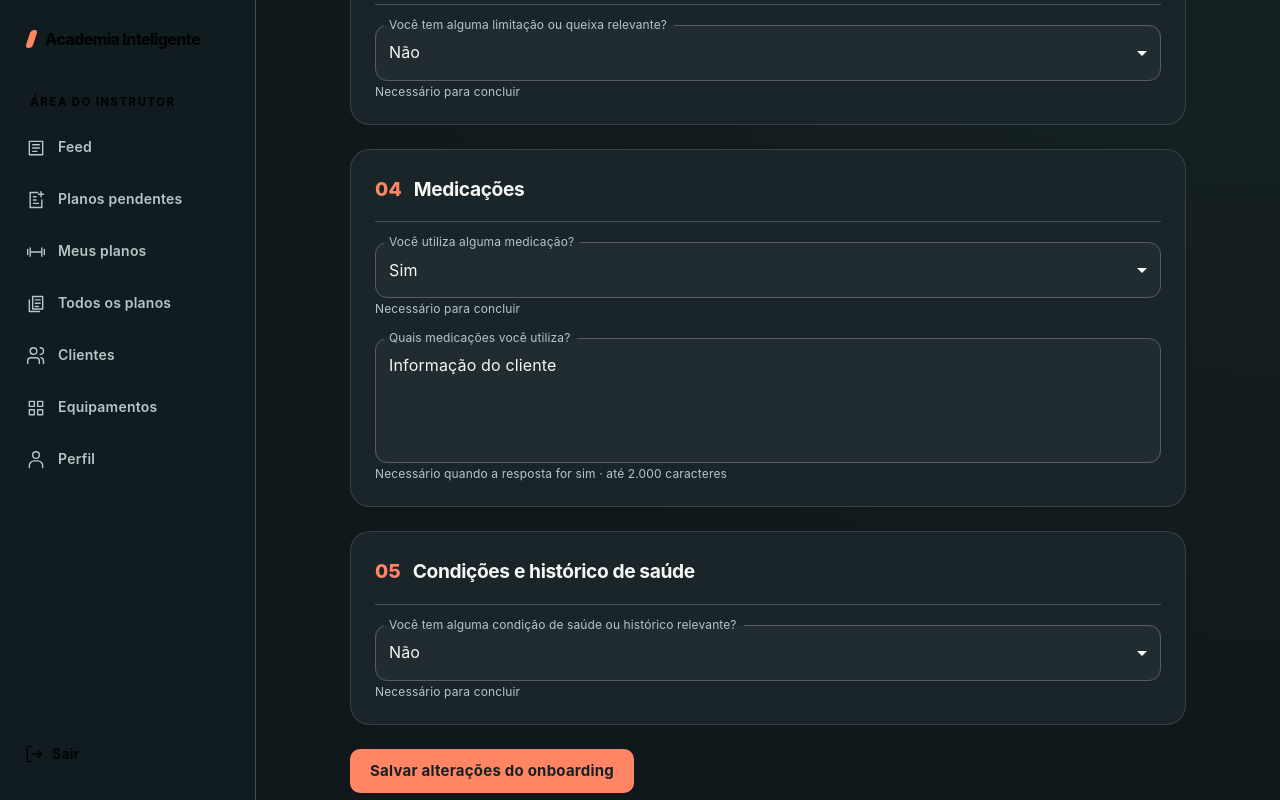
Test case: completed instructor form stays editable and saves all fields on the target route
The width and height of the screenshot is (1280, 800).
(page scrolled)
Step 1. Replace the text in the text box labelled "Quais medicações você utiliza?" with "Nova informação" → (768, 400), box left=389, top=354, right=1147, bottom=446
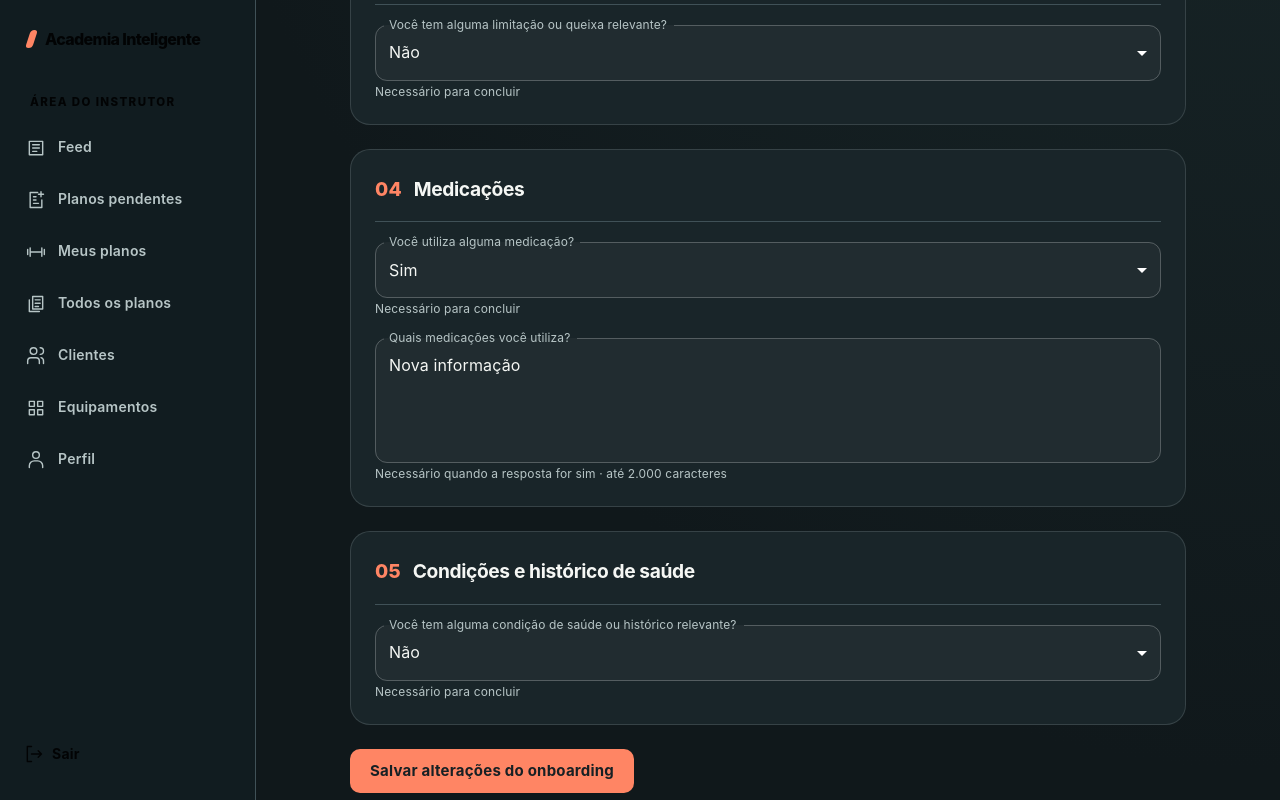
Step 2. Click the button "Salvar alterações do onboarding" → (492, 771), box left=350, top=749, right=634, bottom=793
(page scrolled)
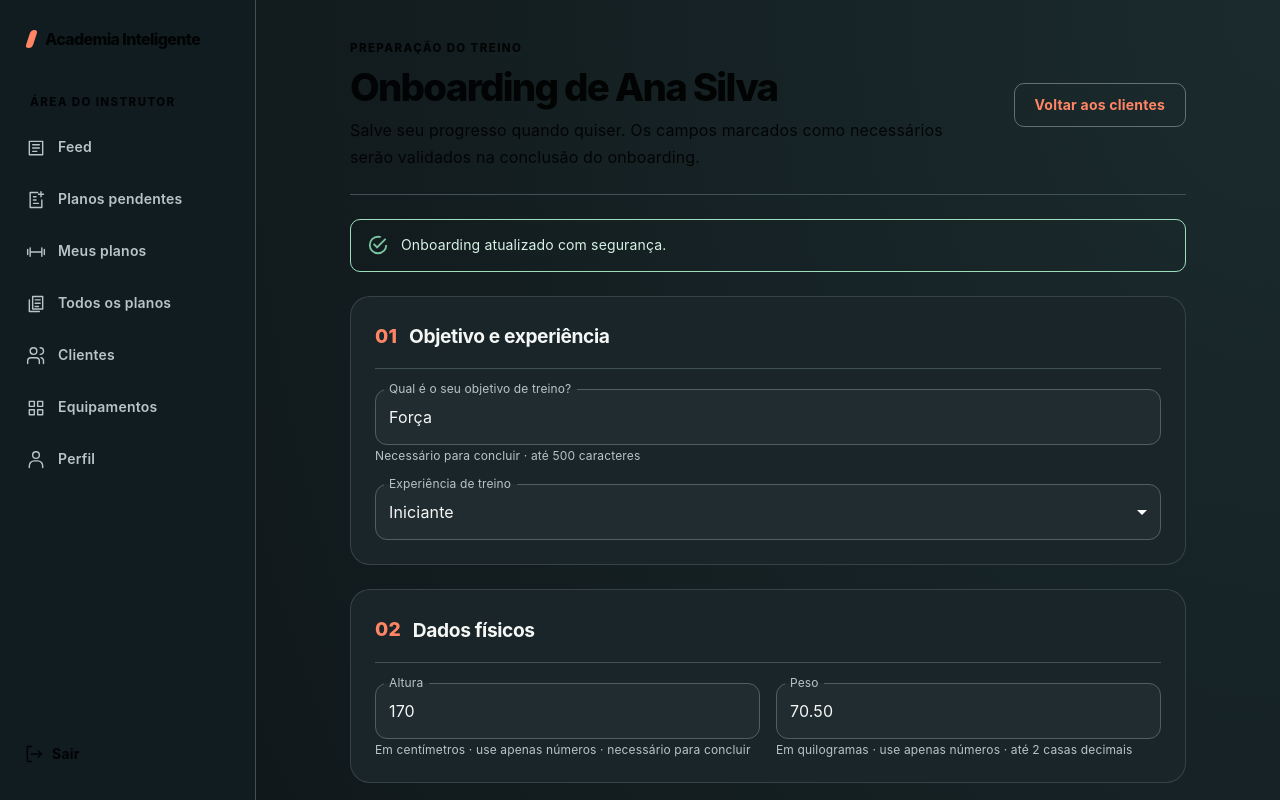
Expected: the text "Onboarding atualizado com segurança." is shown, left=401, top=236, right=666, bottom=253
